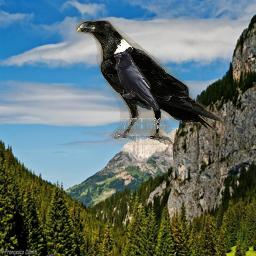Crow: (76, 20, 223, 145), (114, 52, 159, 111)
